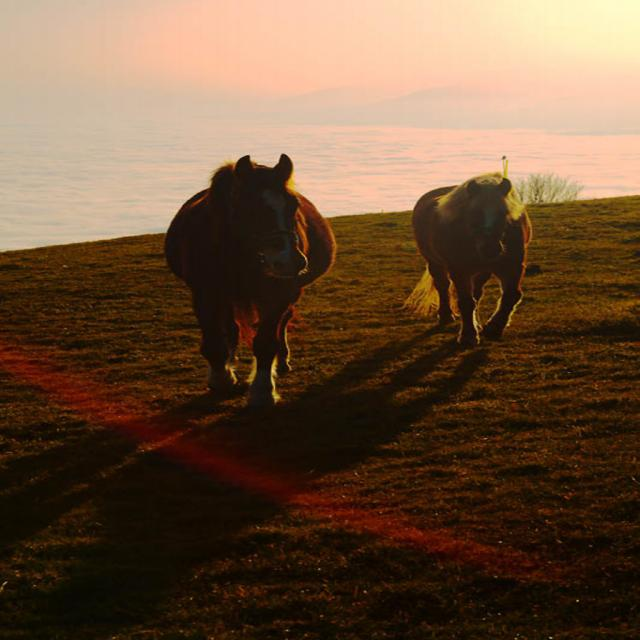Horse: (156, 151, 344, 410), (400, 174, 537, 346)
